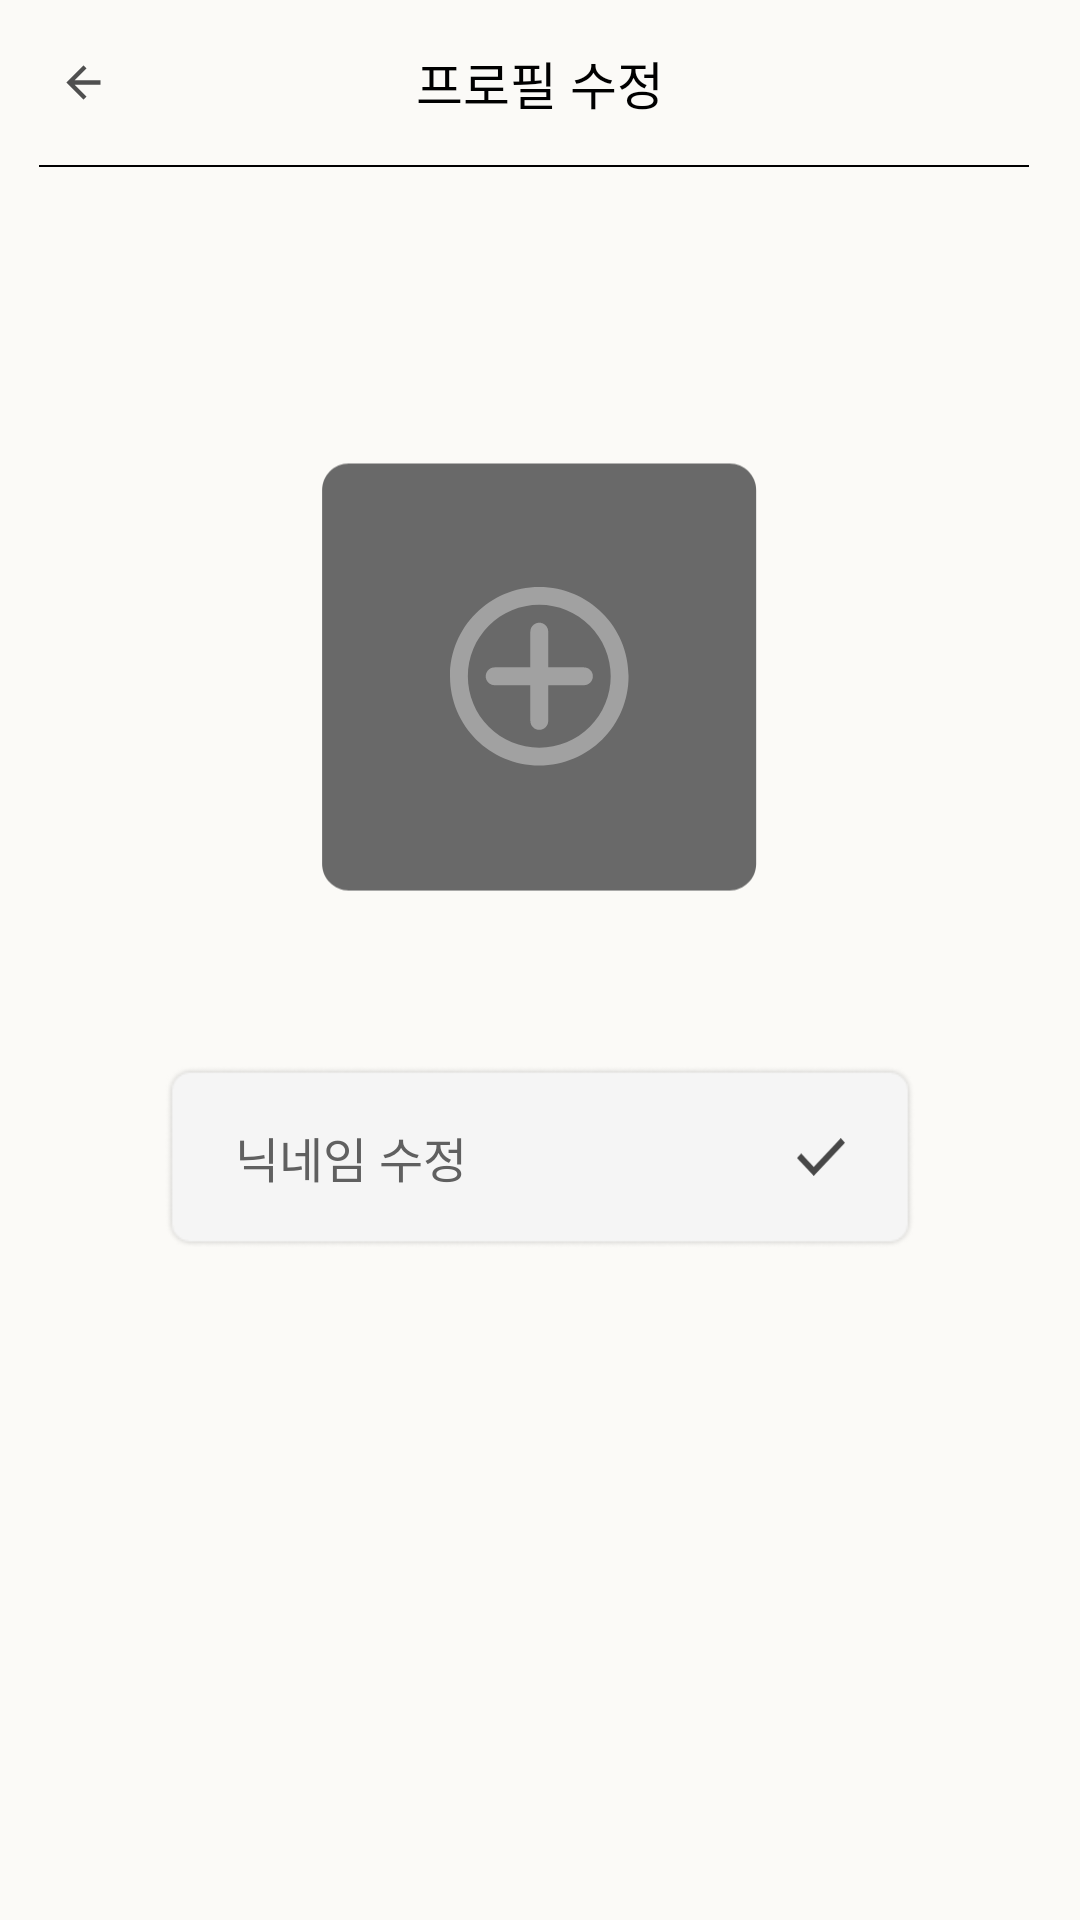

Named icons in this screenshot (1080w x 1920h) and their bounding boxes, (x1, y1, x2, y2):
arrow back: (66, 65, 101, 100)
